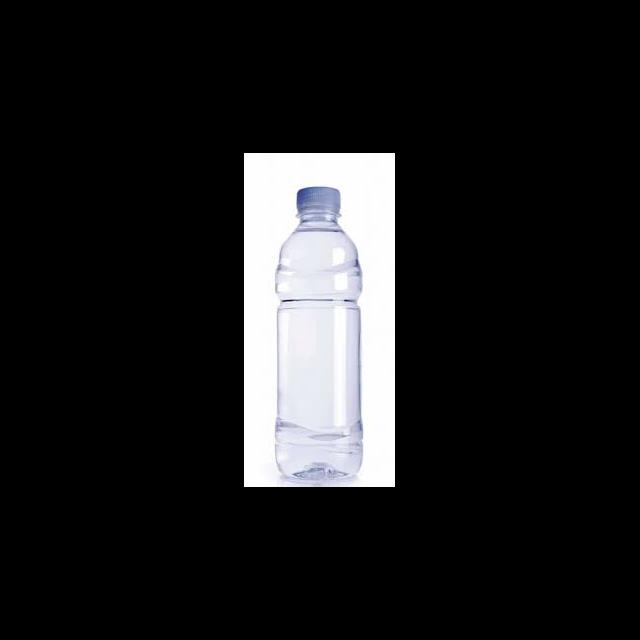plastic: (276, 186, 360, 481), (296, 186, 340, 215)
